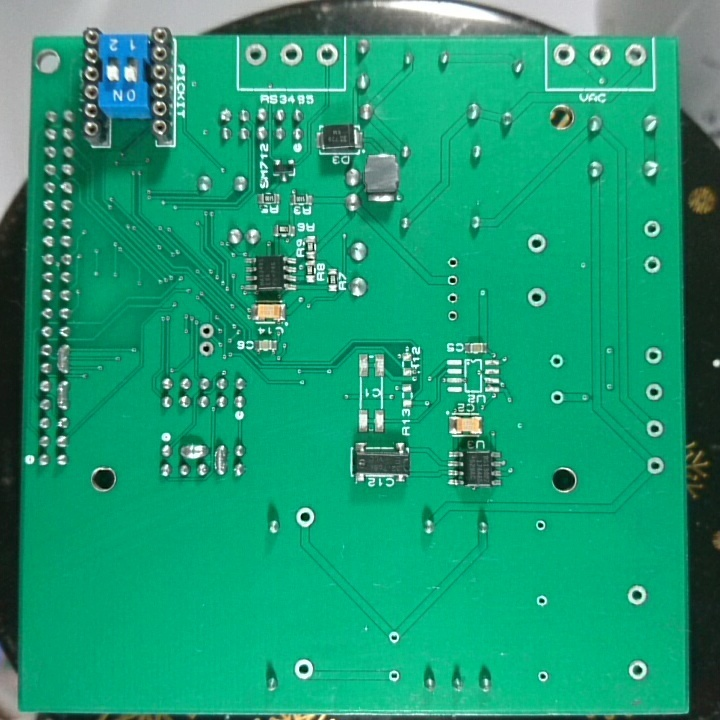F: (587, 40, 614, 72), (621, 42, 650, 70), (312, 40, 340, 68), (551, 41, 578, 69), (242, 41, 269, 68), (277, 42, 305, 67), (291, 656, 317, 682), (626, 583, 651, 610), (625, 657, 652, 682), (294, 503, 318, 531), (642, 344, 668, 369), (525, 232, 550, 256), (644, 453, 666, 479), (526, 286, 549, 310), (641, 217, 664, 240), (639, 254, 664, 275), (644, 418, 666, 440), (643, 381, 665, 402), (548, 351, 568, 372), (196, 338, 215, 360), (534, 666, 552, 689), (196, 321, 216, 341), (383, 668, 405, 686), (385, 626, 402, 648), (532, 515, 548, 537), (548, 388, 566, 407), (534, 591, 551, 611), (445, 269, 462, 288), (445, 288, 462, 306), (445, 307, 462, 324), (445, 254, 461, 270)
P: (53, 378, 72, 412), (54, 341, 73, 375), (177, 440, 208, 460), (212, 442, 229, 478)
